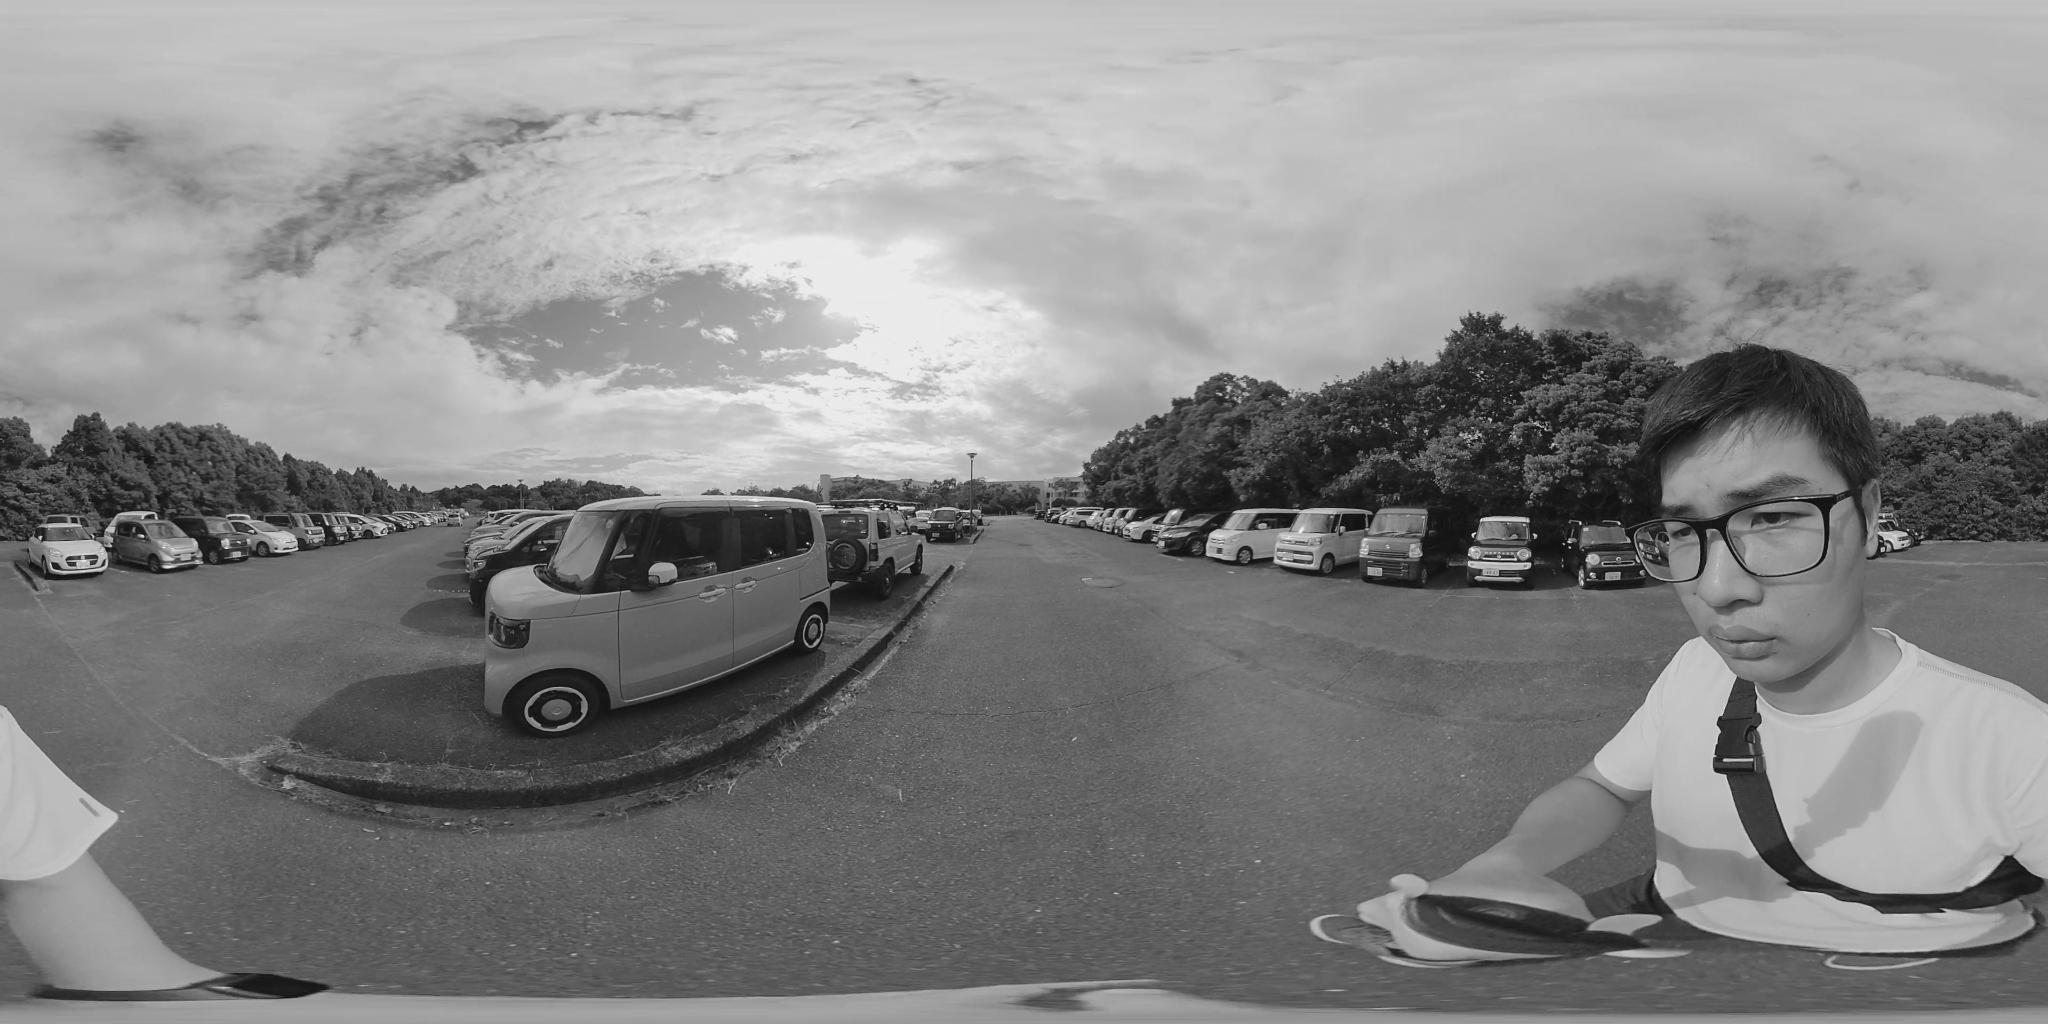car: (485, 499, 822, 697), (810, 505, 923, 588), (465, 509, 573, 584), (1266, 509, 1370, 576), (104, 516, 213, 575), (1364, 509, 1446, 581), (1463, 513, 1540, 589), (1204, 509, 1307, 562), (1574, 521, 1644, 588), (200, 519, 286, 560), (1152, 513, 1224, 556), (259, 516, 328, 552), (923, 508, 987, 541), (1870, 519, 1920, 556), (287, 516, 342, 549), (1113, 513, 1165, 543), (321, 516, 372, 542), (345, 516, 398, 541), (1057, 507, 1105, 526), (376, 515, 418, 536)
